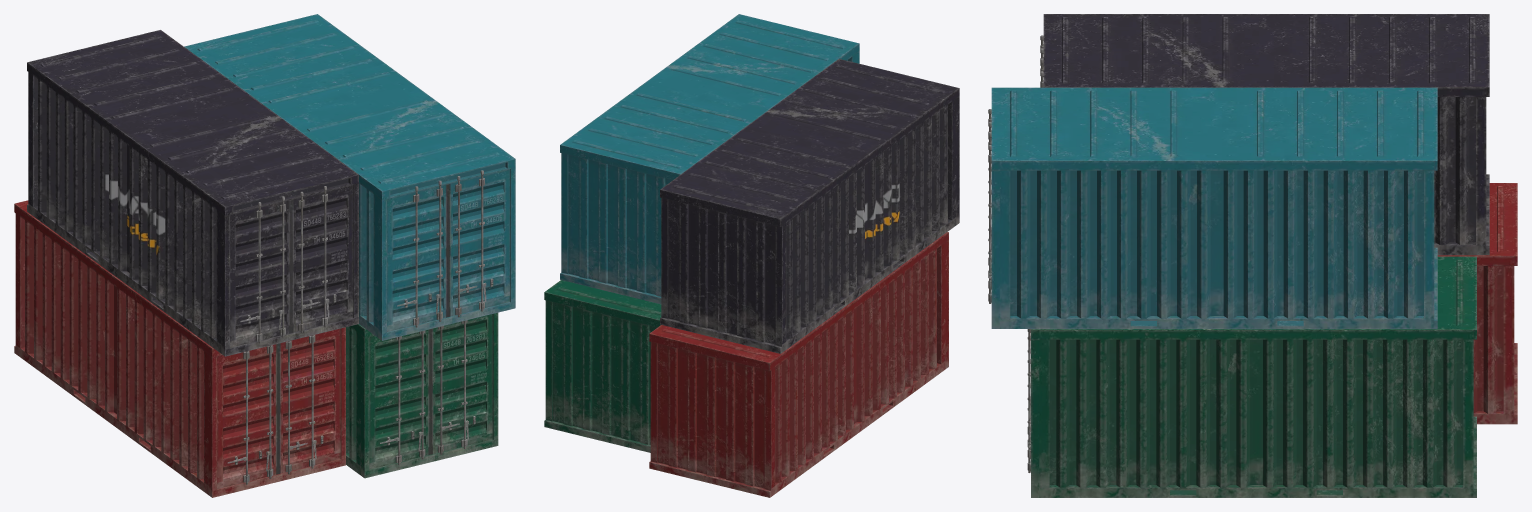
File: containers.glb
The picture shows the model from 3 angles, left to right: view 1: azimuth 30°, elevation 25°; view 2: azimuth 150°, elevation 25°; view 3: azimuth 270°, elevation 25°; orthographic projection. The views are drawn at different scales.
Parts seen in each view (by area): view 1: Container_Black, Container_Aqua, Container_Red, Container_Green; view 2: Container_Black, Container_Red, Container_Aqua, Container_Green; view 3: Container_Aqua, Container_Green, Container_Black, Container_Red.
Part boxes in pixels (left/top/right/bottom): Container_Black: left=27, top=30, right=358, bottom=356; Container_Aqua: left=184, top=14, right=515, bottom=340; Container_Red: left=14, top=200, right=345, bottom=497; Container_Green: left=346, top=312, right=498, bottom=478; Container_Black: left=660, top=59, right=959, bottom=353; Container_Red: left=649, top=232, right=948, bottom=497; Container_Aqua: left=560, top=14, right=859, bottom=304; Container_Green: left=544, top=280, right=661, bottom=452; Container_Aqua: left=988, top=87, right=1437, bottom=328; Container_Green: left=1027, top=256, right=1476, bottom=497; Container_Black: left=1040, top=14, right=1489, bottom=255; Container_Red: left=1437, top=183, right=1517, bottom=424.
Bounding box in the file's own units: 5.11 × 5.47 × 7.76.
Materials: 4 (4 with a texture image).
